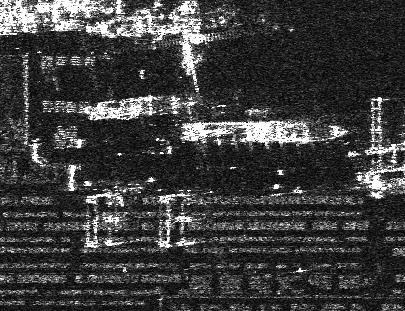ship: (178, 121, 351, 145)
